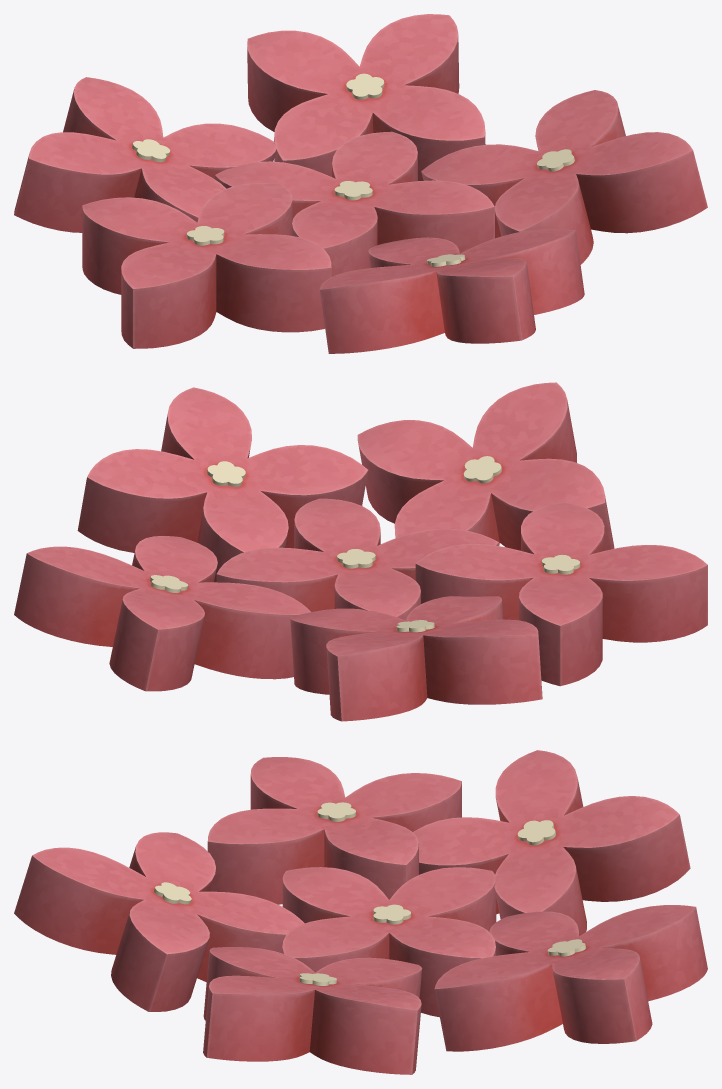
File: Plate05.fbx
3 views of the same model, one above another, from view 1: azimuth 30°, elevation 25°; view 2: azimuth 150°, elevation 25°; view 3: azimuth 270°, elevation 25° (orthographic).
Visible parts, largest first — view 1: Dessert05Plate; view 2: Dessert05Plate; view 3: Dessert05Plate.
Part boxes in pixels (x1,y1,x2,y2): Dessert05Plate: (14,14,707,353); Dessert05Plate: (14,382,707,721); Dessert05Plate: (14,750,707,1074).
Size of the model in its own units: 21.01 by 4.68 by 22.68.
1 material, 1 textured.
